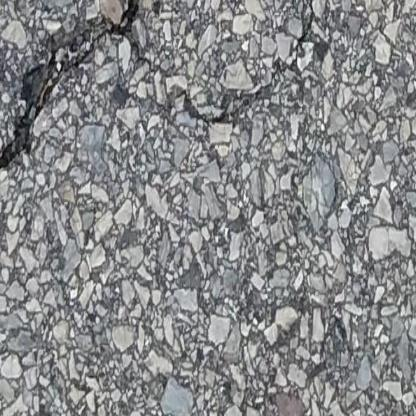Cracks: (0, 0, 147, 179)
